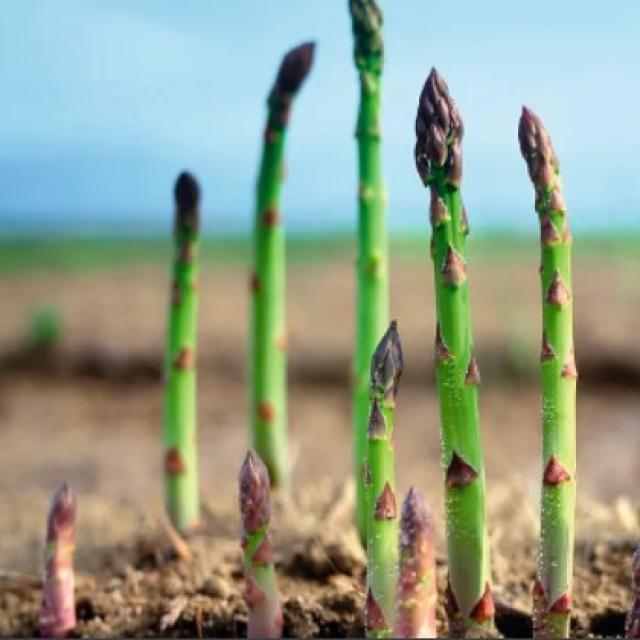aspargus: (517, 107, 579, 621)
